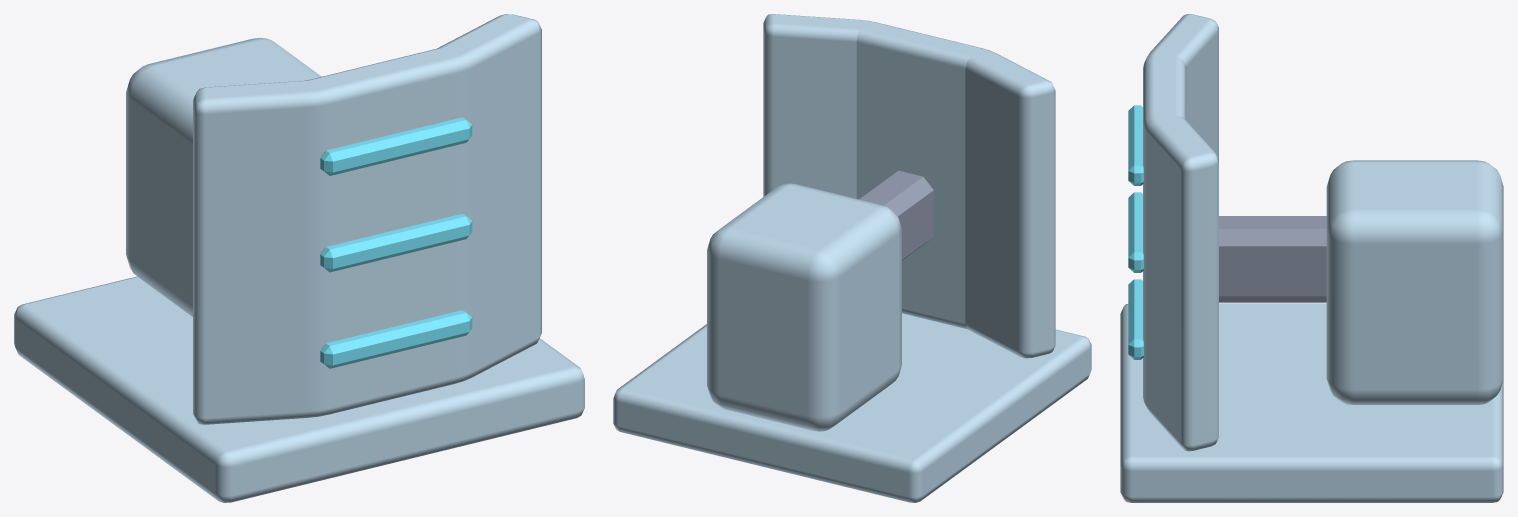
The model's file is R4X_DirectionalShield.glb.
3 views of the same model, side by side, from view 1: azimuth 30°, elevation 25°; view 2: azimuth 150°, elevation 25°; view 3: azimuth 270°, elevation 25° (orthographic). The views are drawn at different scales.
Visible parts, largest first — view 1: R4X_DirectionalShield_Body; view 2: R4X_DirectionalShield_Body; view 3: R4X_DirectionalShield_Body.
Part boxes in pixels (x1,y1,x2,y2): R4X_DirectionalShield_Body: (14,14,584,502); R4X_DirectionalShield_Body: (613,14,1091,502); R4X_DirectionalShield_Body: (1120,14,1503,502).
Bounding box in the file's own units: 0.52 × 0.51 × 0.52.
